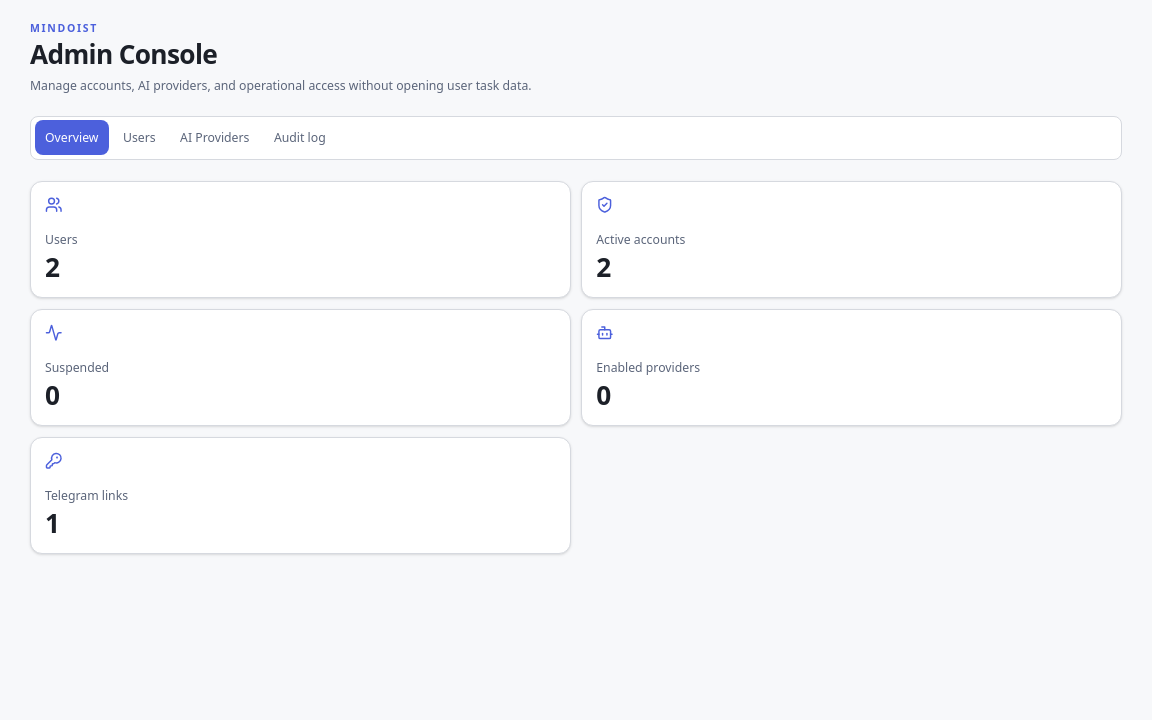
Scenario: AdminPage › renders the admin overview and provider management sections
Expected: the heading "Admin Console" is shown, x1=30 y1=36 x2=217 y2=72
Expected: the 1st text "2" is shown, x1=45 y1=248 x2=60 y2=284
Step 1. Click the button "AI Providers" → click(215, 138), box x1=170 y1=120 x2=260 y2=155
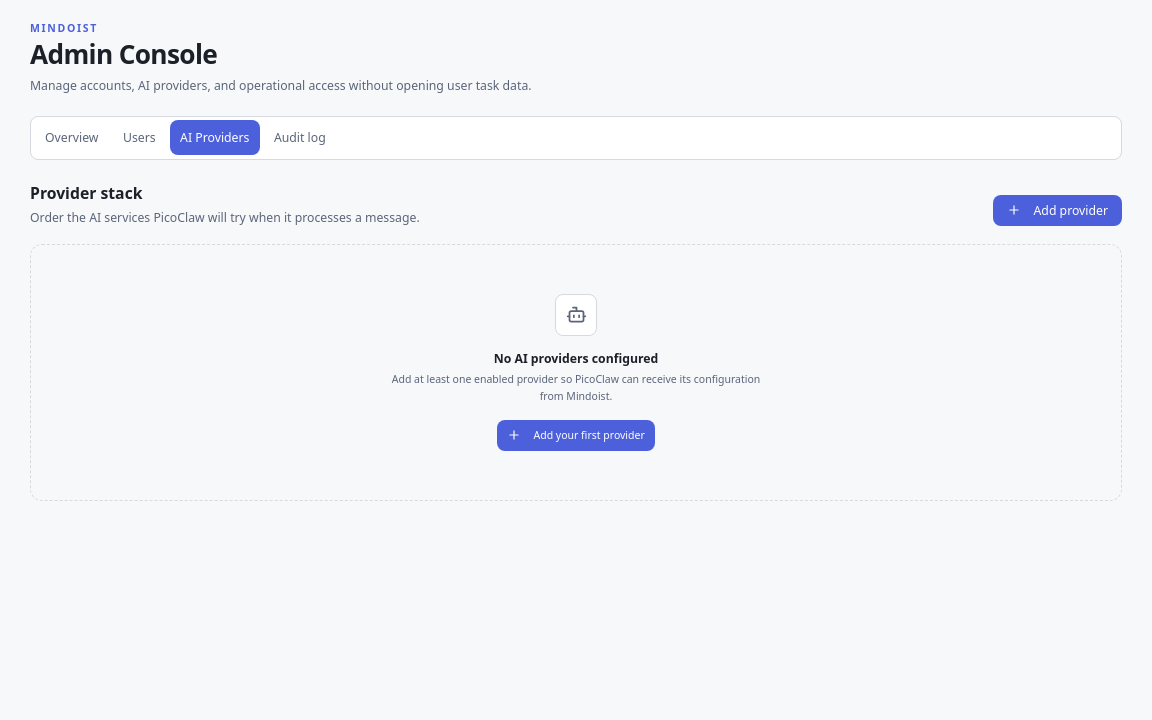
Now the button "Add provider" is shown, box x1=993 y1=194 x2=1122 y2=226
